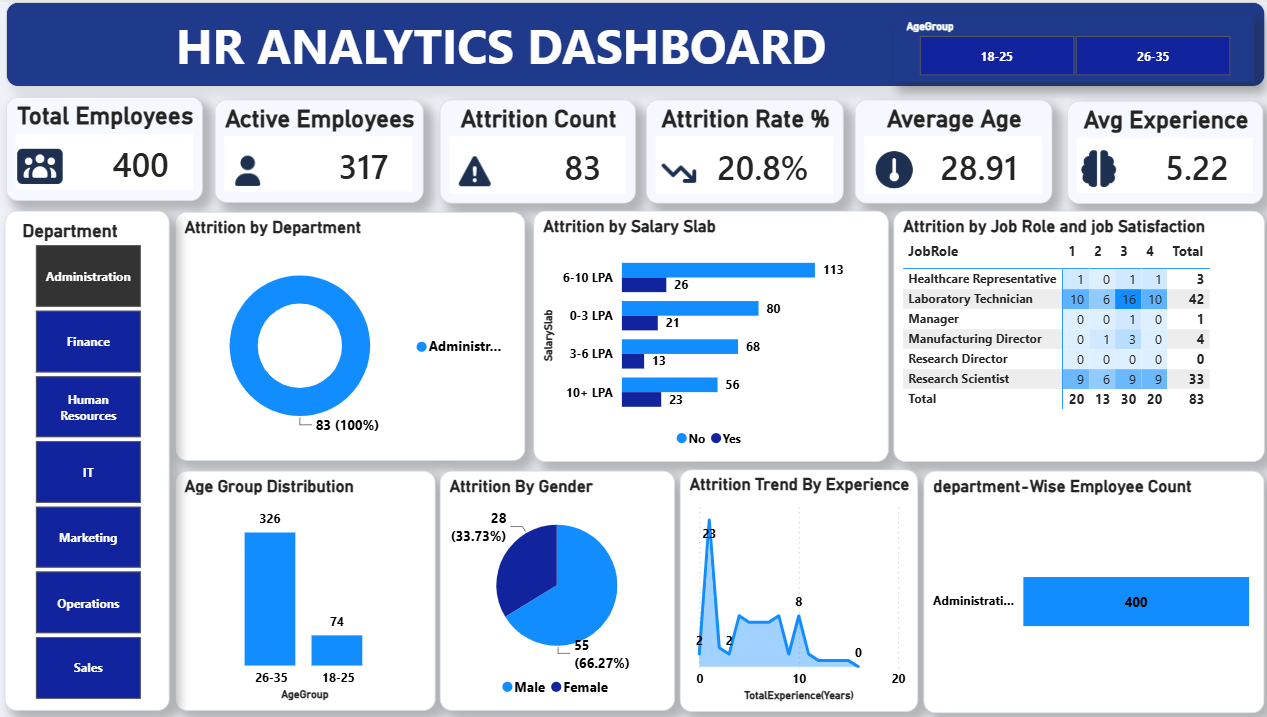

The page's visual inventory and layout, read from the dashboard file:
{"tool":"powerbi","page":{"name":"Page 1","canvas":[1280,720],"ordinal":0},"visuals":[{"type":"textbox","box":[10,0,1259,85],"z":0},{"type":"cardVisual","title":"Total Employees","fields":{"Data":["CountNonNull(HR_Analytics-4.EmpID)"]},"box":[10,95,197,104],"z":1000},{"type":"cardVisual","title":"Active Employees","fields":{"Data":["CountNonNull(HR_Analytics-4.EmployeeCount)"]},"box":[218.2,97.4,208.6,102.9],"z":2000},{"type":"cardVisual","title":"Attrition Count","fields":{"Data":["Sum(HR_Analytics-4.AttritionCount)"]},"box":[443.2,97.4,196.2,104.3],"z":3000},{"type":"cardVisual","title":"Attrition Rate %","fields":{"Data":["HR_Analytics-4.Attrition Rate %"]},"box":[650.4,97.4,197.6,104.3],"z":4000},{"type":"cardVisual","title":"Average Age","fields":{"Data":["Avg(HR_Analytics-4.Age)"]},"box":[859,97.4,197.6,104.3],"z":5000},{"type":"cardVisual","title":"Avg Experience","fields":{"Data":["Avg(HR_Analytics-4.YearsatCompany)"]},"box":[1071.7,98.8,196.2,102.9],"z":6000},{"type":"donutChart","title":"Attrition by Department","fields":{"Category":["HR_Analytics-4.Department"],"Y":["Sum(HR_Analytics-4.AttritionCount)"]},"box":[179,210,350,249],"z":7000},{"type":"clusteredBarChart","title":"Attrition by Salary Slab","fields":{"Category":["HR_Analytics-4.SalarySlab"],"Y":["CountNonNull(HR_Analytics-4.EmpID)"],"Series":["HR_Analytics-4.Attrition"]},"box":[537,209,355,251],"z":8000},{"type":"pivotTable","title":"Attrition by Job Role and job Satisfaction","fields":{"Rows":["HR_Analytics-4.JobRole"],"Values":["Sum(HR_Analytics-4.AttritionCount)"],"Columns":["HR_Analytics-4.JobSatisfaction"]},"box":[898,209,371,251],"z":9000},{"type":"columnChart","title":"Age Group Distribution","fields":{"Y":["Sum(HR_Analytics-4.EmployeeCount)"],"Category":["HR_Analytics-4.AgeGroup"]},"box":[179,469,261,240],"z":10000},{"type":"pieChart","title":"Attrition By Gender","fields":{"Category":["HR_Analytics-4.Gender"],"Y":["Sum(HR_Analytics-4.AttritionCount)"]},"box":[443.8,468.8,235,240],"z":11000},{"type":"areaChart","title":"Attrition Trend By Experience","fields":{"Category":["HR_Analytics-4.TotalExperience(Years)"],"Y2":["Sum(HR_Analytics-4.AttritionCount)"]},"box":[684,468,238.8,242.5],"z":12000},{"type":"funnel","title":"department-Wise Employee Count","fields":{"Category":["HR_Analytics-4.Department"],"Y":["CountNonNull(HR_Analytics-4.EmpID)"]},"box":[928,469,341,242],"z":13000},{"type":"slicer","fields":{"Values":["HR_Analytics-4.Department"]},"box":[9,209,165,500],"z":14000},{"type":"slicer","fields":{"Values":["HR_Analytics-4.AgeGroup"]},"box":[898,12,361,68],"z":15000},{"type":"image","box":[231.2,140,52.5,48.8],"z":16000},{"type":"image","box":[25,127.5,66.2,71.2],"z":17000},{"type":"image","box":[457.5,144,52.5,48.8],"z":18000},{"type":"image","box":[662.5,142.5,52.5,48.8],"z":19000},{"type":"image","box":[875,142.5,52.5,48.8],"z":20000},{"type":"image","box":[1083.8,144,52.5,48.8],"z":21000}]}

Visuals, with their boxes in screenshot pixels (x1, y1, x2, y2), scaled from the page's 1280x720 canvas onto the 1267x717 screenshot:
textbox: (10,0,1256,85)
"Total Employees" cardVisual: (10,95,205,198)
"Active Employees" cardVisual: (216,97,422,199)
"Attrition Count" cardVisual: (439,97,633,201)
"Attrition Rate %" cardVisual: (644,97,839,201)
"Average Age" cardVisual: (850,97,1046,201)
"Avg Experience" cardVisual: (1061,98,1255,201)
"Attrition by Department" donutChart: (177,209,524,457)
"Attrition by Salary Slab" clusteredBarChart: (532,208,883,458)
"Attrition by Job Role and job Satisfaction" pivotTable: (889,208,1256,458)
"Age Group Distribution" columnChart: (177,467,436,706)
"Attrition By Gender" pieChart: (439,467,672,706)
"Attrition Trend By Experience" areaChart: (677,466,913,708)
"department-Wise Employee Count" funnel: (919,467,1256,708)
slicer - HR_Analytics-4.Department: (9,208,172,706)
slicer - HR_Analytics-4.AgeGroup: (889,12,1246,80)
image: (229,139,281,188)
image: (25,127,90,198)
image: (453,143,505,192)
image: (656,142,708,191)
image: (866,142,918,191)
image: (1073,143,1125,192)
